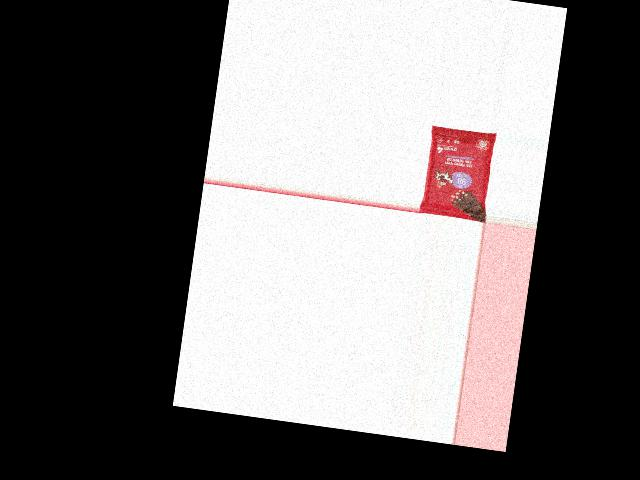chocolate: (419, 123, 495, 221)
